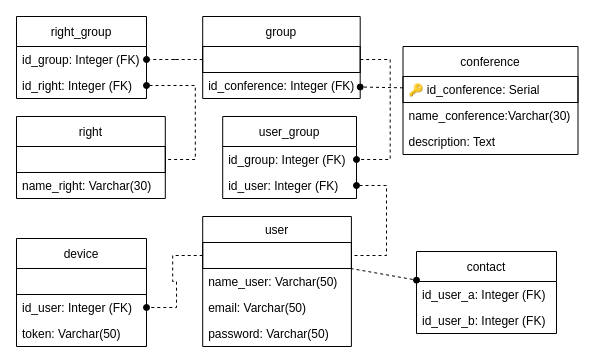
Image size: 594x363. Some labels were removed from this diagram. The centre of each missing label's shape, as x and y in pixels:
"🔑 id_device: Serial" goes at point (81, 281).
"🔑 id_group: Serial" goes at point (281, 59).
"🔑 id_right: Serial" goes at point (90, 159).
"🔑 id_user: Serial" goes at point (276, 255).
